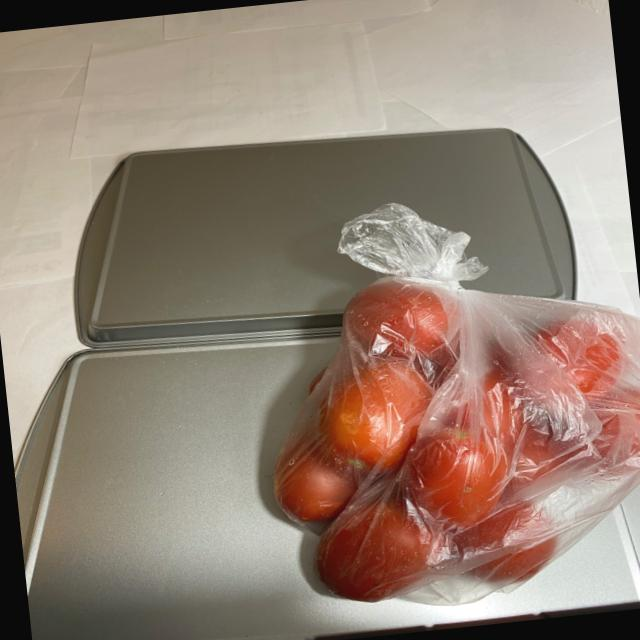tomato: (251, 252, 640, 626)
